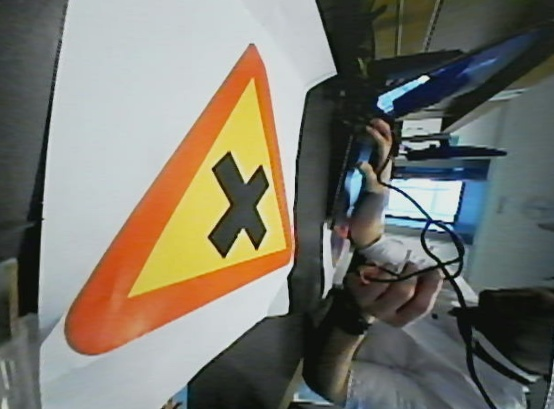junction: (76, 43, 298, 343)
